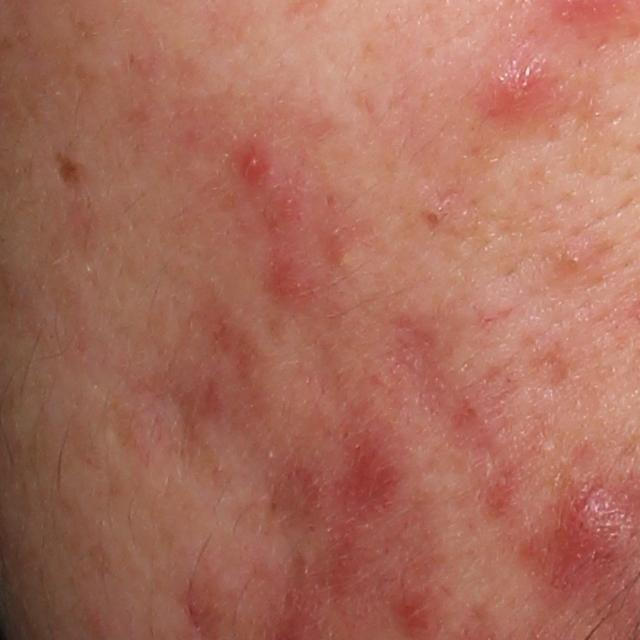atrophic_scar: (114, 297, 281, 499), (531, 349, 572, 392)
papule: (485, 62, 555, 124), (268, 251, 317, 310), (392, 592, 436, 640), (234, 142, 270, 184)
